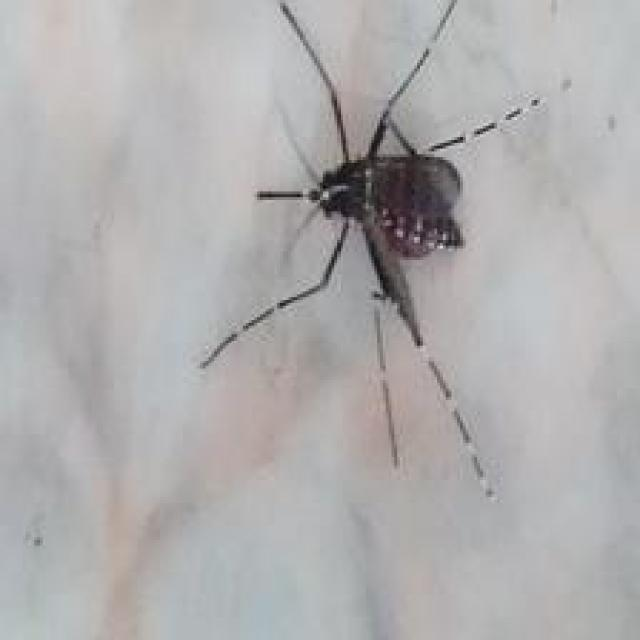Aedes albopictus: (196, 0, 544, 503)
